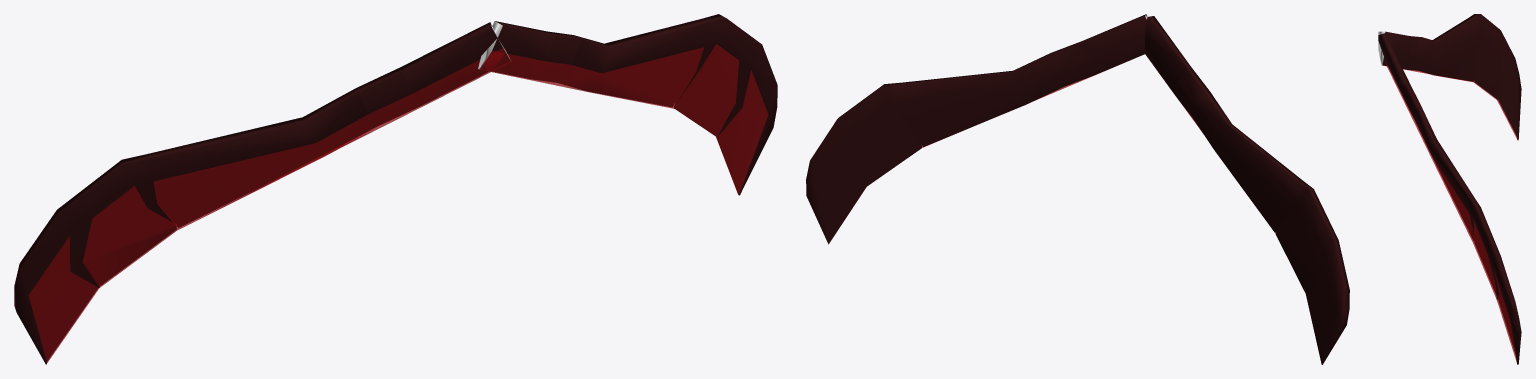
File: wings2.fbx
The picture shows the model from 3 angles, left to right: view 1: azimuth 30°, elevation 25°; view 2: azimuth 150°, elevation 25°; view 3: azimuth 270°, elevation 25°; orthographic projection. The views are drawn at different scales.
Parts seen in each view (by area): view 1: mesh10, mesh11; view 2: mesh11, mesh10; view 3: mesh10, mesh11.
Boxes of the visible parts, <box> form: mesh10: <box>14,22,511,364</box>; mesh11: <box>478,14,777,195</box>; mesh11: <box>806,14,1147,244</box>; mesh10: <box>1145,16,1349,364</box>; mesh10: <box>1378,14,1521,140</box>; mesh11: <box>1378,33,1521,364</box>.
Size of the model in its own units: 339 by 141 by 83.08.
